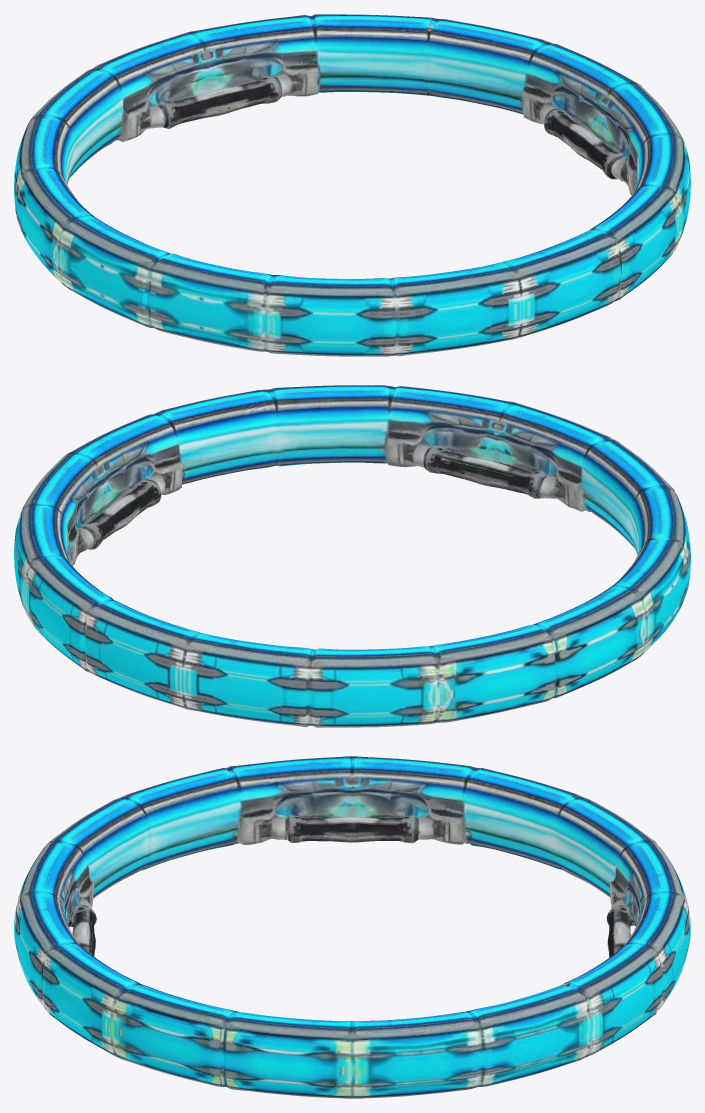
File: cyanring2.glb
3 renders of one model, top to bottom at view 1: azimuth 30°, elevation 25°; view 2: azimuth 150°, elevation 25°; view 3: azimuth 270°, elevation 25°, orthographic.
Visible parts, largest first — view 1: Mesh0; view 2: Mesh0; view 3: Mesh0.
Part boxes in pixels (bbox=[...]): Mesh0: bbox=[14, 14, 690, 356]; Mesh0: bbox=[14, 385, 690, 727]; Mesh0: bbox=[14, 756, 690, 1098].
Size of the model in its own units: 1.91 by 0.2227 by 1.91.
Materials: 1 (1 with a texture image).
